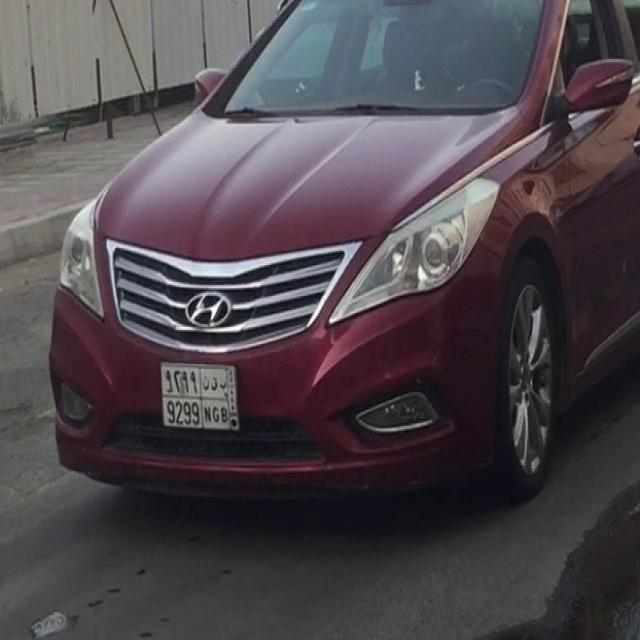Car-plate: (155, 348, 262, 448)
